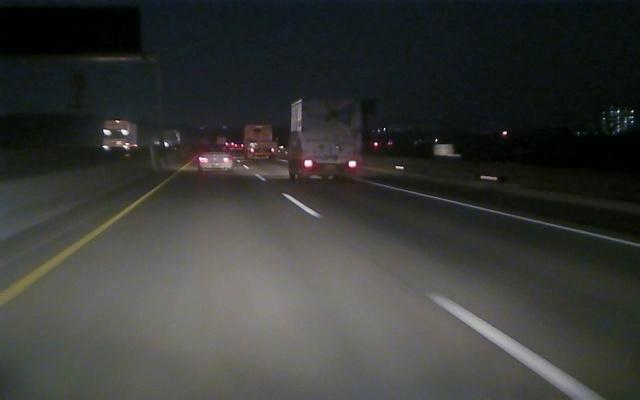lane: (283, 192, 603, 396), (1, 195, 146, 306), (393, 186, 640, 249)
